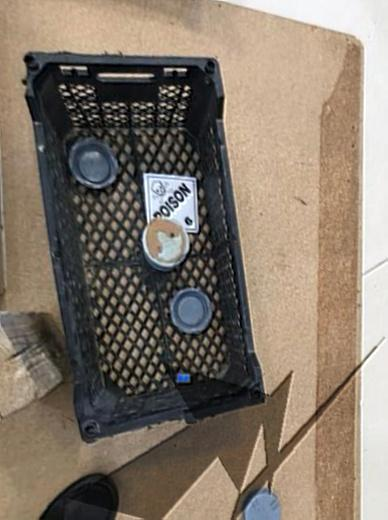poison: (142, 170, 200, 239)
